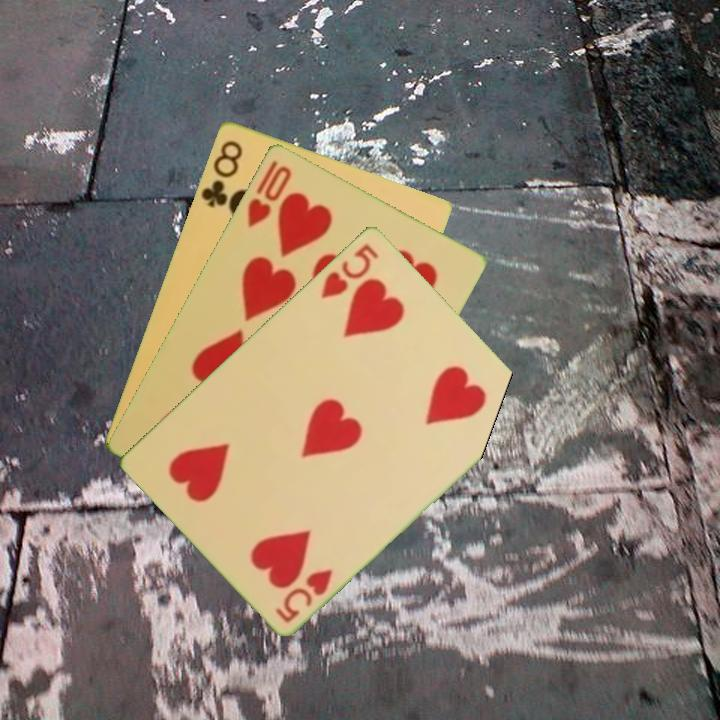10h: (243, 161, 294, 230)
5h: (317, 239, 382, 301), (271, 564, 336, 625)
8c: (197, 136, 245, 210)
